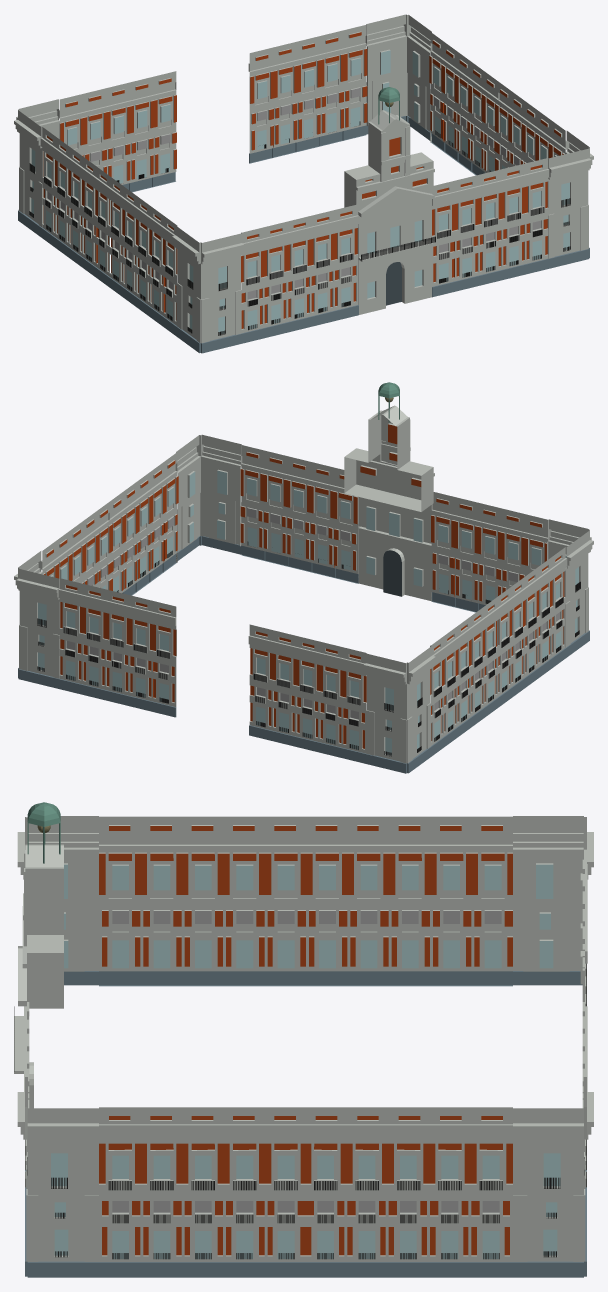
Rendered from puerta_del_sol.fbx.
3 renders of one model, top to bottom at view 1: azimuth 30°, elevation 25°; view 2: azimuth 150°, elevation 25°; view 3: azimuth 270°, elevation 25°, orthographic. The views are drawn at different scales.
Visible parts, largest first — view 1: puerta_del_sol_principal; view 2: puerta_del_sol_principal; view 3: puerta_del_sol_principal.
Boxes of the visible parts, x1=… form: puerta_del_sol_principal: x1=14, y1=14, x2=593, y2=353; puerta_del_sol_principal: x1=14, y1=382, x2=593, y2=773; puerta_del_sol_principal: x1=14, y1=802, x2=593, y2=1277.
Bounding box in the file's own units: 215 × 110 × 177.
